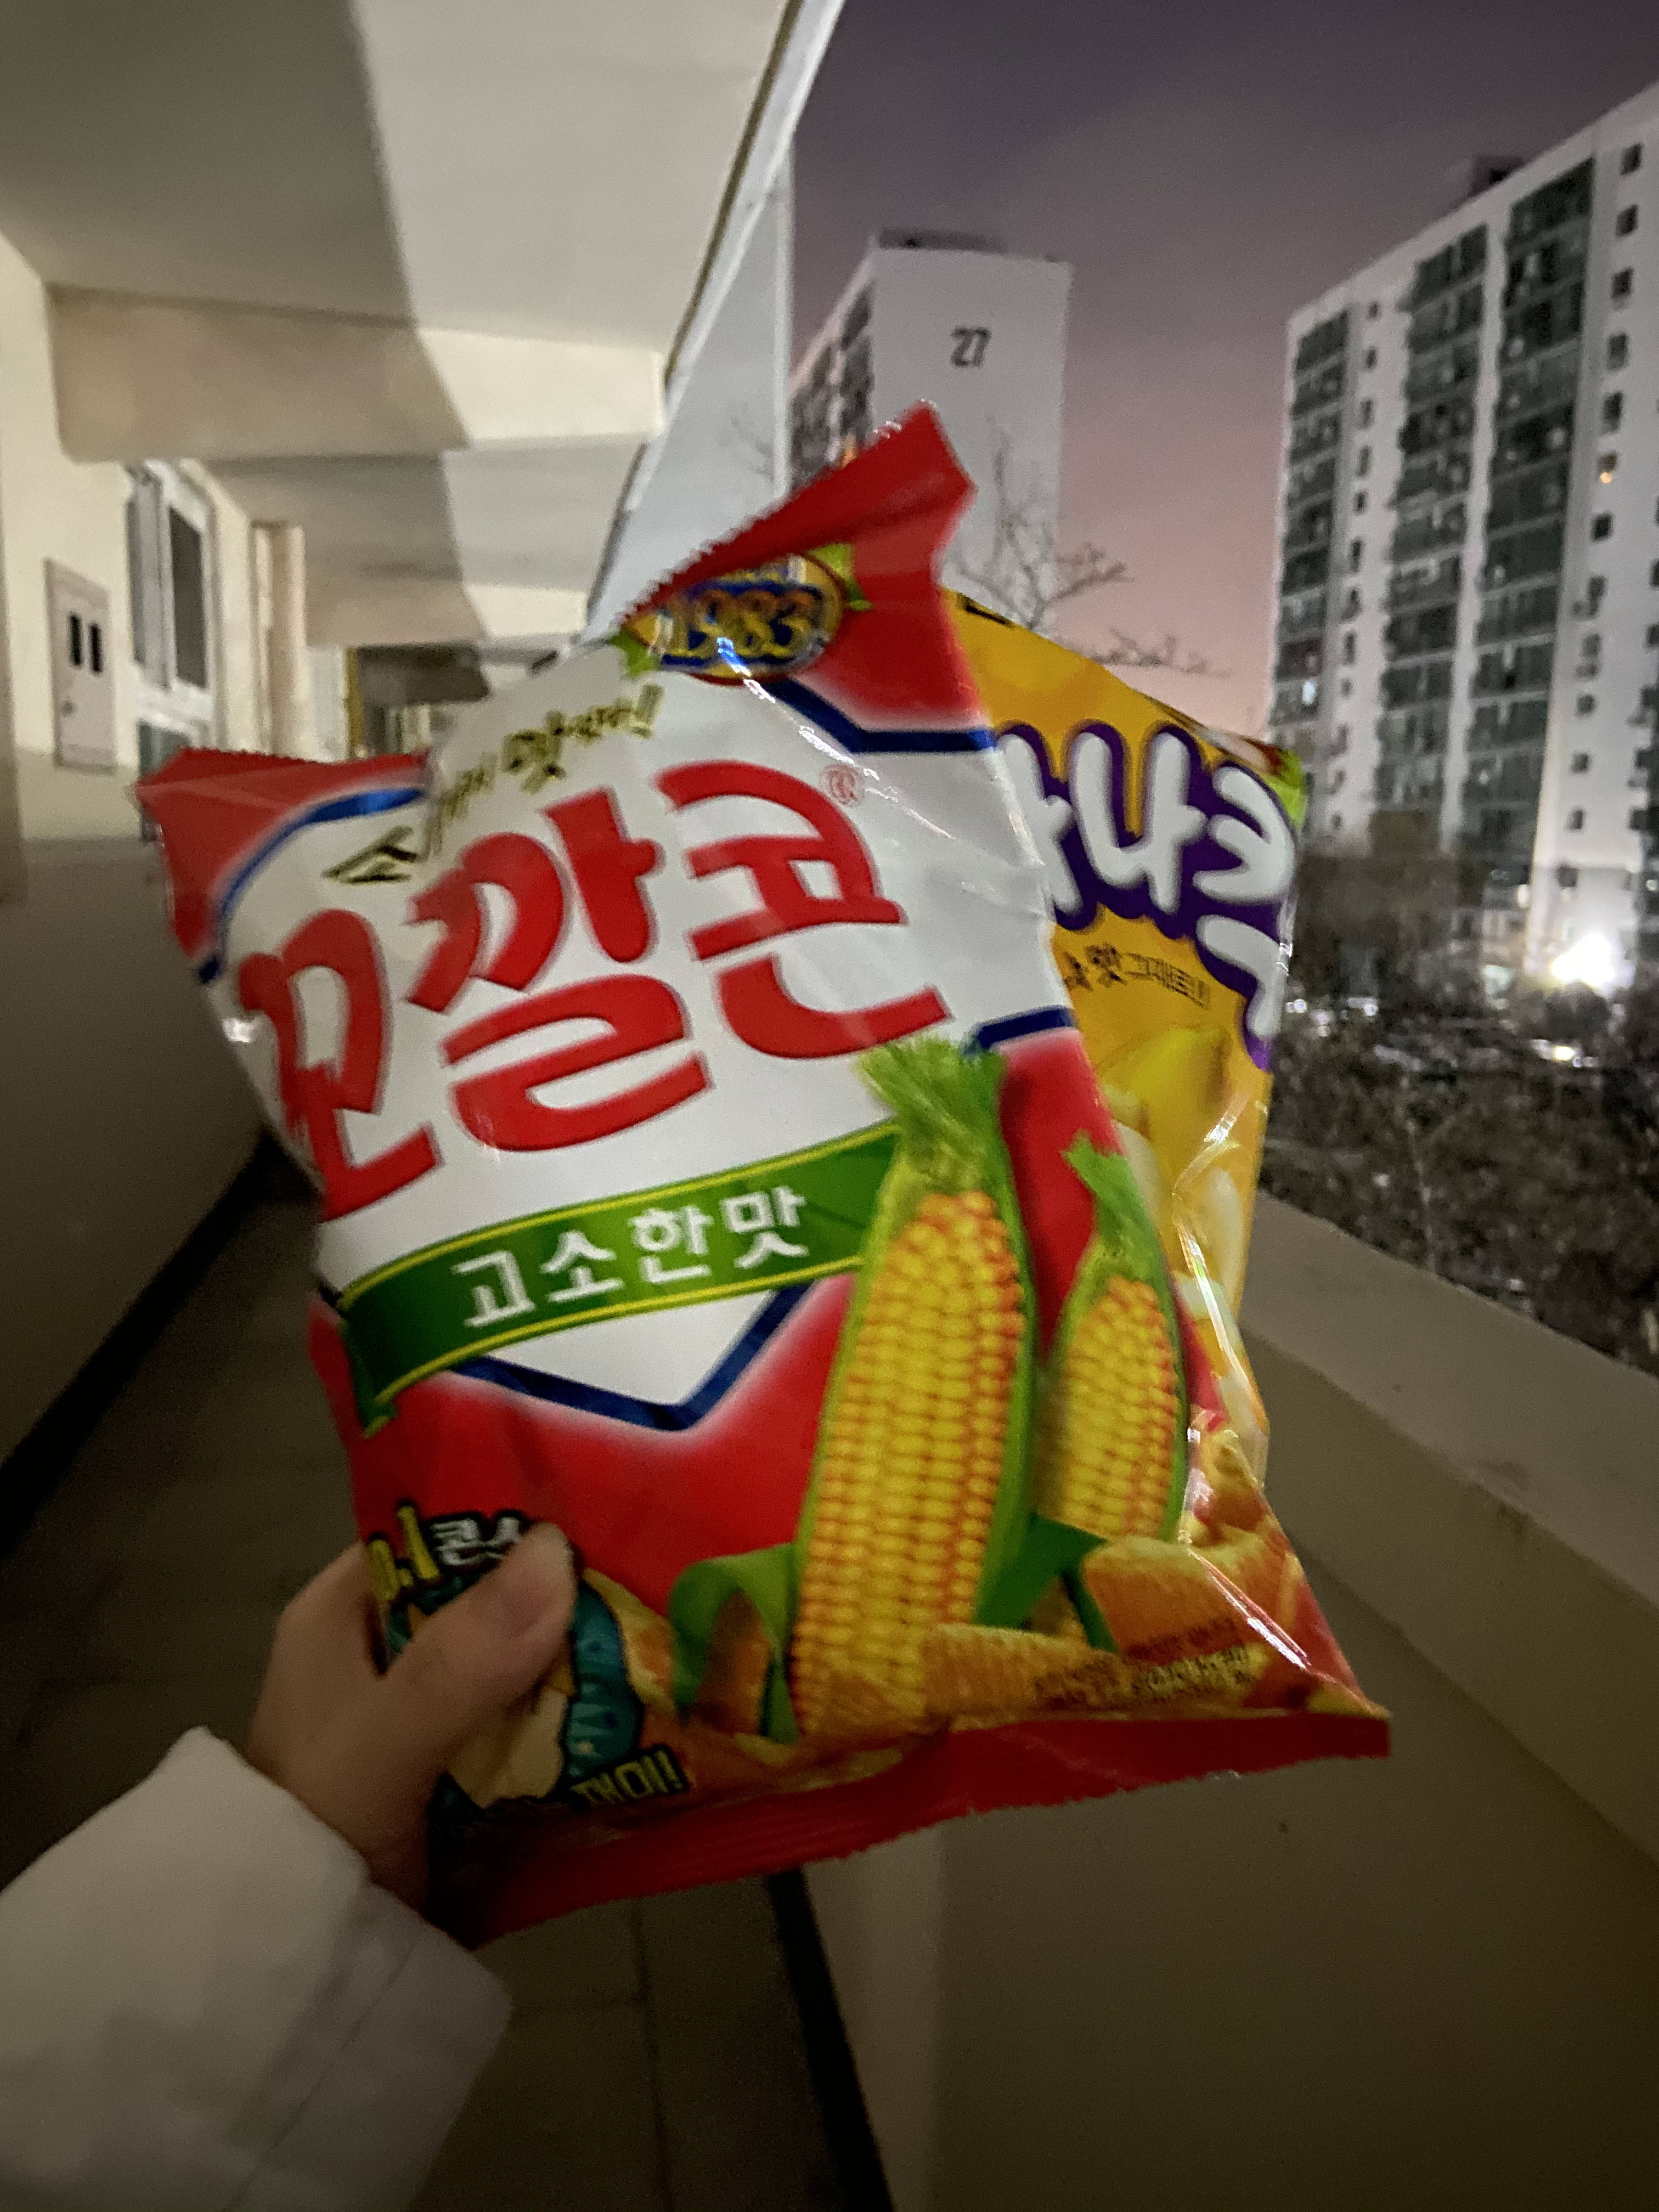banana: (924, 563, 1338, 1409)
ggoggalcon: (113, 399, 1406, 2026)
